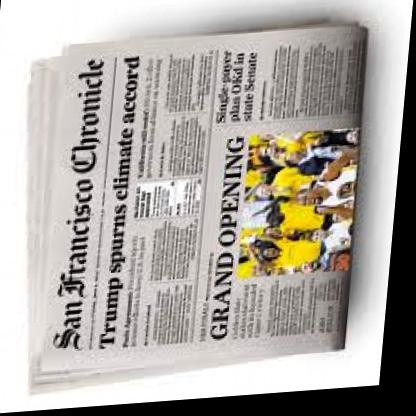trash: (30, 24, 366, 384)
